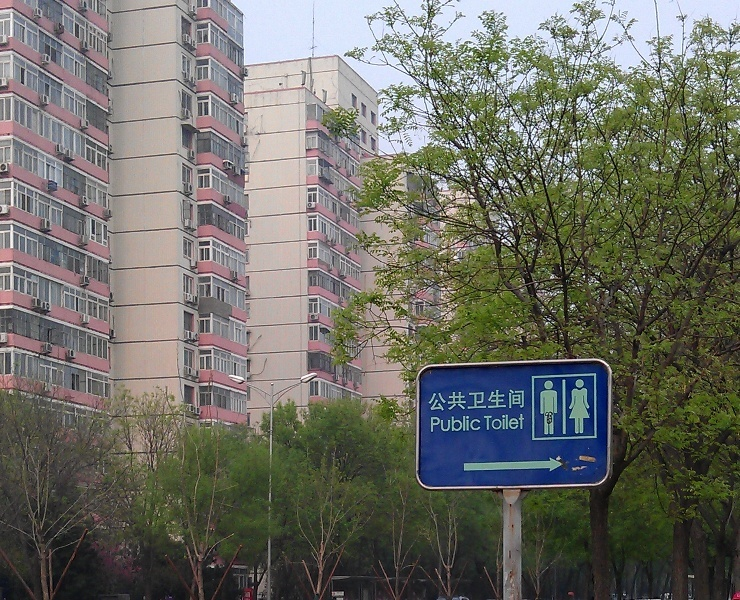text: (433, 389, 448, 413), (449, 389, 464, 413), (465, 389, 480, 413), (481, 389, 496, 413), (497, 389, 512, 413), (513, 389, 527, 413), (433, 415, 448, 433), (449, 415, 464, 433), (465, 415, 480, 433), (497, 414, 512, 431), (483, 414, 496, 431), (513, 414, 526, 431), (428, 389, 432, 413), (430, 415, 432, 433), (481, 415, 482, 433)
